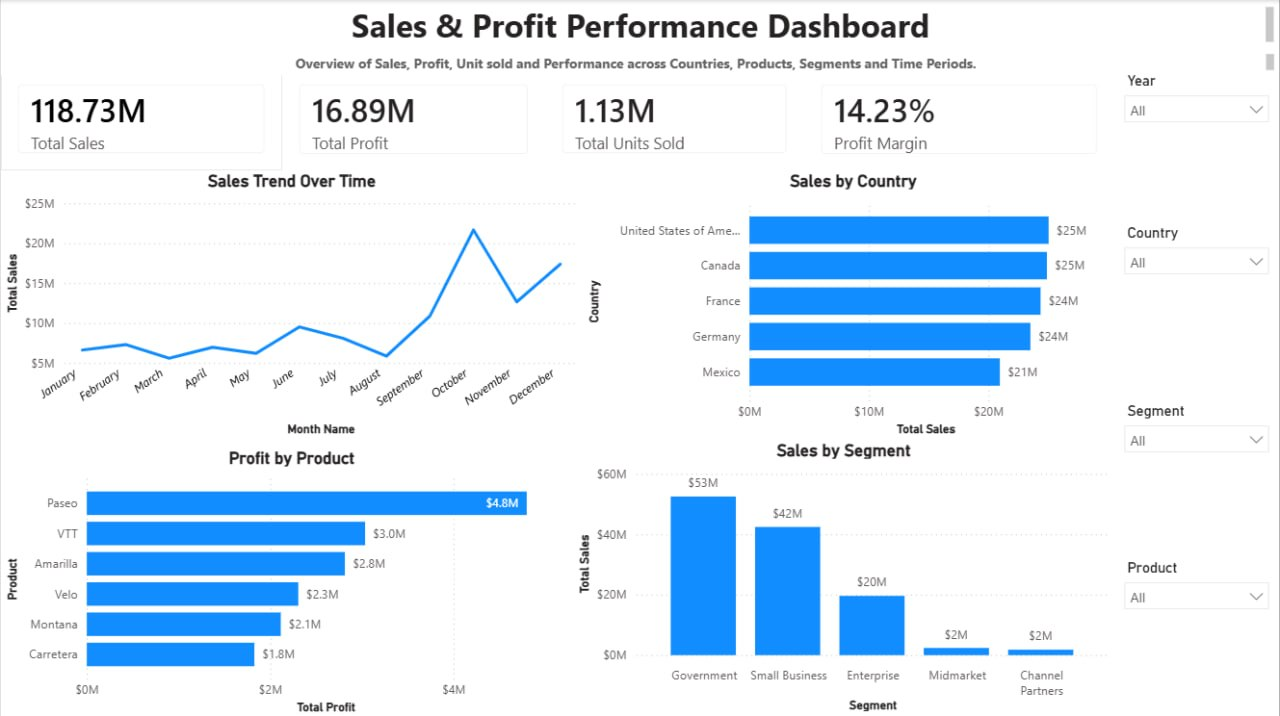

This screenshot's page, from the dashboard's own definition file:
{"tool":"powerbi","page":{"name":"Page 1","canvas":[1280,720],"ordinal":0},"visuals":[{"type":"textbox","box":[9.6,0,1270.4,49.2],"z":0},{"type":"cardVisual","fields":{"Data":["financials.Total Sales"]},"box":[0,67.5,281.7,103.2],"z":1000},{"type":"cardVisual","fields":{"Data":["financials.Total Profit"]},"box":[281.7,67.5,263.3,104.2],"z":2000},{"type":"cardVisual","fields":{"Data":["financials.Total Units Sold"]},"box":[545,67.5,259.5,103.2],"z":3000},{"type":"cardVisual","fields":{"Data":["financials.Profit Margin"]},"box":[804.5,67.5,310.6,104.2],"z":4000},{"type":"lineChart","title":"Sales Trend Over Time","fields":{"Y":["financials.Total Sales"],"Category":["financials.Month Name"]},"box":[0,170.7,582.6,270.1],"z":5000},{"type":"clusteredBarChart","title":"Sales by Country","fields":{"Category":["financials.Country"],"Y":["financials.Total Sales"]},"box":[582.6,170.7,542.1,270.1],"z":6000},{"type":"clusteredBarChart","title":"Profit by Product","fields":{"Category":["financials.Product"],"Y":["financials.Total Profit"]},"box":[0,448.5,582.6,271],"z":7000},{"type":"clusteredColumnChart","title":"Sales by Segment","fields":{"Category":["financials.Segment"],"Y":["financials.Total Sales"]},"box":[573,440.8,542.1,276.8],"z":8000},{"type":"slicer","fields":{"Values":["financials.Year"]},"box":[1115.1,67.5,164.9,152.4],"z":9000},{"type":"slicer","fields":{"Values":["financials.Country"]},"box":[1115.1,219.9,164.9,156.3],"z":10000},{"type":"slicer","fields":{"Values":["financials.Segment"]},"box":[1115.1,398.4,164.9,157.2],"z":11000},{"type":"slicer","fields":{"Values":["financials.Product"]},"box":[1115.1,555.6,164.9,164],"z":12000},{"type":"textbox","box":[0,49.2,1280,26],"z":13000}]}

Visuals, with their boxes in screenshot pixels (x1, y1, x2, y2), scaled from the page's 1280x720 canvas onto the 1280x716 screenshot:
textbox: [left=10, top=0, right=1279, bottom=49]
cardVisual - financials.Total Sales: [left=0, top=67, right=282, bottom=170]
cardVisual - financials.Total Profit: [left=282, top=67, right=545, bottom=171]
cardVisual - financials.Total Units Sold: [left=545, top=67, right=804, bottom=170]
cardVisual - financials.Profit Margin: [left=804, top=67, right=1115, bottom=171]
"Sales Trend Over Time" lineChart: [left=0, top=170, right=583, bottom=438]
"Sales by Country" clusteredBarChart: [left=583, top=170, right=1125, bottom=438]
"Profit by Product" clusteredBarChart: [left=0, top=446, right=583, bottom=715]
"Sales by Segment" clusteredColumnChart: [left=573, top=438, right=1115, bottom=714]
slicer - financials.Year: [left=1115, top=67, right=1279, bottom=219]
slicer - financials.Country: [left=1115, top=219, right=1279, bottom=374]
slicer - financials.Segment: [left=1115, top=396, right=1279, bottom=553]
slicer - financials.Product: [left=1115, top=553, right=1279, bottom=715]
textbox: [left=0, top=49, right=1279, bottom=75]
